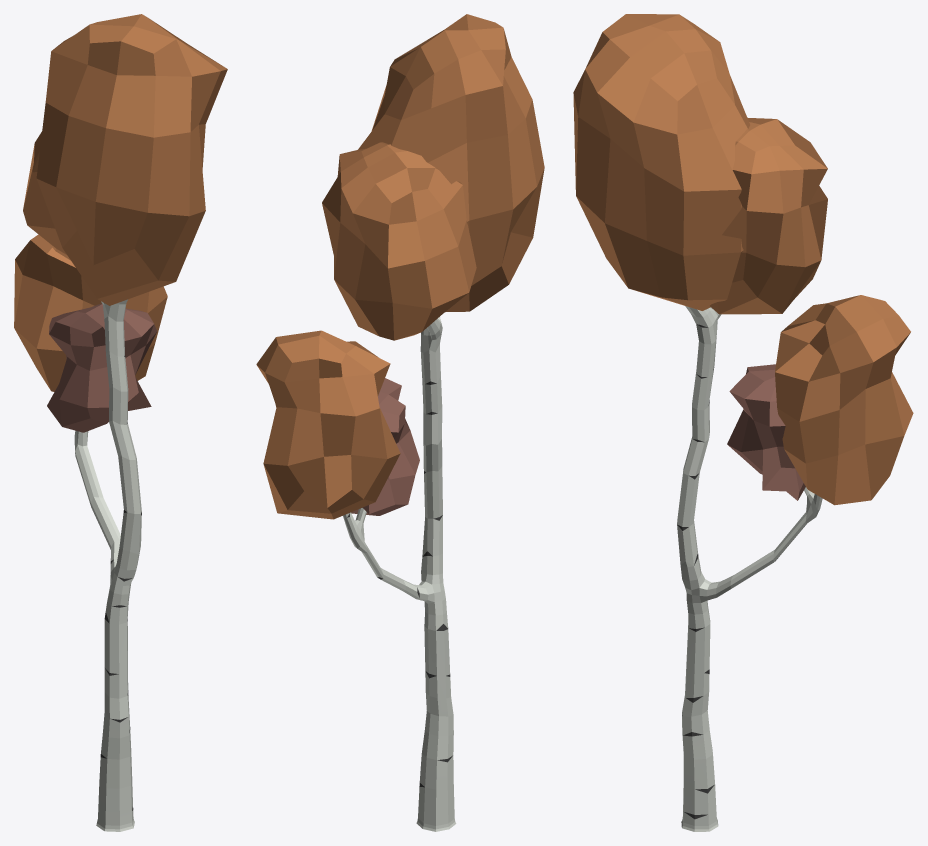
The model's file is birchtree_autumn_5.glb.
3 views of the same model, side by side, from view 1: azimuth 30°, elevation 25°; view 2: azimuth 150°, elevation 25°; view 3: azimuth 270°, elevation 25° (orthographic). The views are drawn at different scales.
Parts seen in each view (by area): view 1: BirchTree_Autumn_5; view 2: BirchTree_Autumn_5; view 3: BirchTree_Autumn_5.
Boxes of the visible parts, <box> form: BirchTree_Autumn_5: <box>14,14,227,831</box>; BirchTree_Autumn_5: <box>256,14,544,831</box>; BirchTree_Autumn_5: <box>573,14,913,831</box>.
Bounding box in the file's own units: 1.19 × 5.01 × 1.93.
